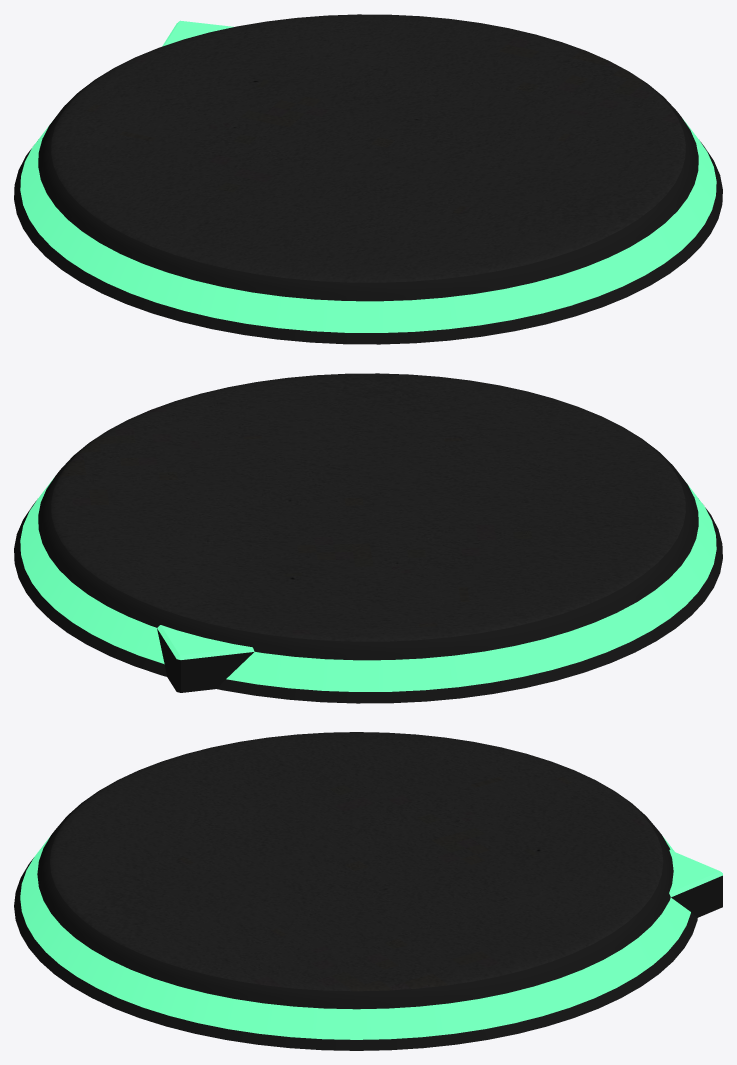
Rendered from TokenStage1.glb.
3 renders of one model, top to bottom at view 1: azimuth 30°, elevation 25°; view 2: azimuth 150°, elevation 25°; view 3: azimuth 270°, elevation 25°, orthographic. The views are drawn at different scales.
Visible parts, largest first — view 1: base, ForwardMaker.005; view 2: base, ForwardMaker.005; view 3: base, ForwardMaker.005.
Boxes of the visible parts, box(x1,y1,x2,y2) form: base: box(14, 14, 722, 344); ForwardMaker.005: box(162, 20, 233, 46); base: box(14, 373, 722, 703); ForwardMaker.005: box(157, 625, 254, 692); base: box(14, 732, 697, 1050); ForwardMaker.005: box(669, 850, 722, 917).
Size of the model in its own units: 1.95 by 0.1473 by 2.02.
Materials: 3 (1 with a texture image).
